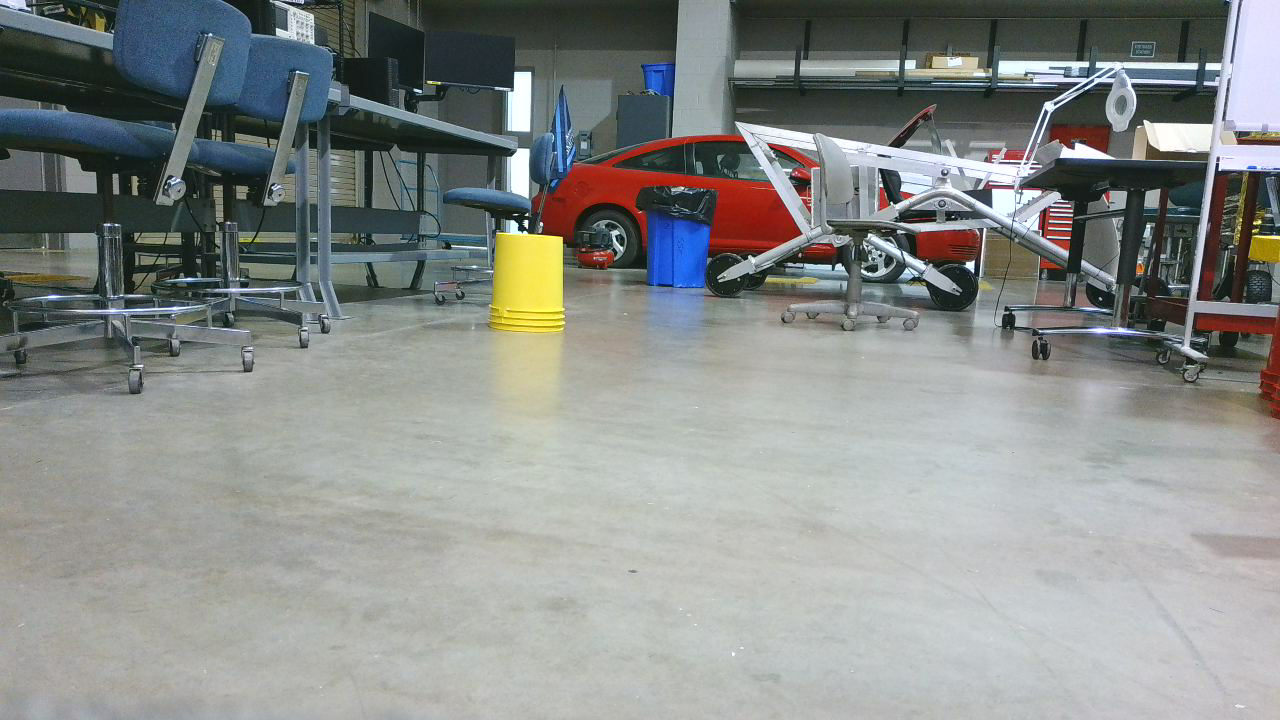yellow_bucket: (496, 236, 569, 336)
